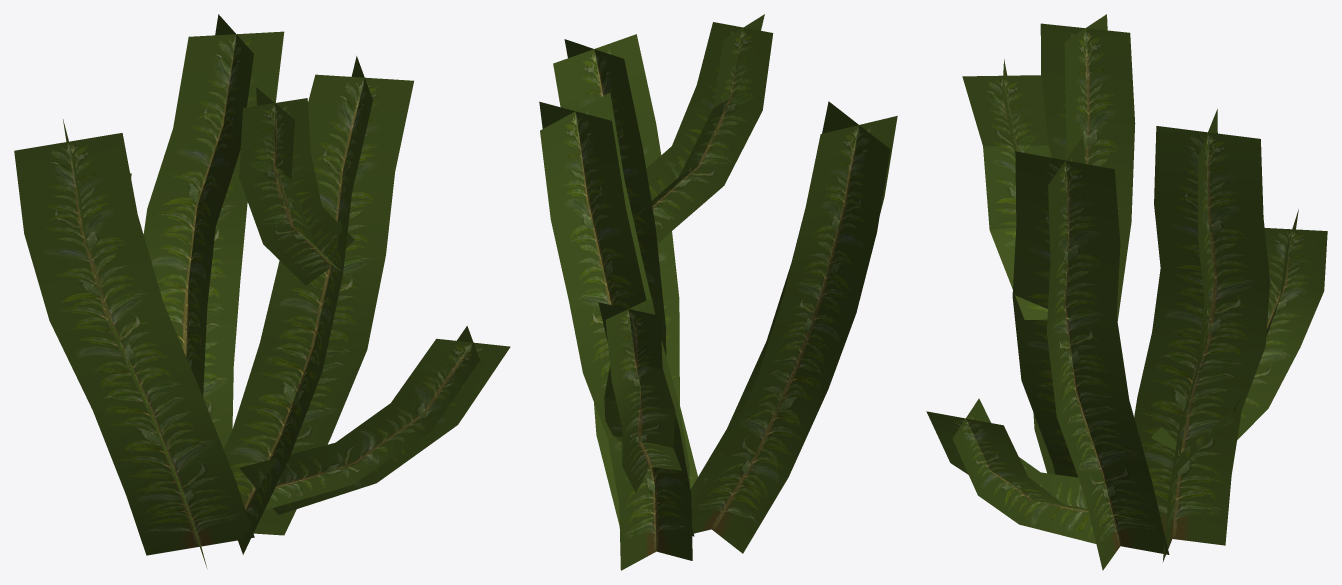
The model's file is Salix viminalis.FBX.
3 renders of one model, left to right at view 1: azimuth 30°, elevation 25°; view 2: azimuth 150°, elevation 25°; view 3: azimuth 270°, elevation 25°, orthographic. The views are drawn at different scales.
Parts seen in each view (by area): view 1: Salix viminalis; view 2: Salix viminalis; view 3: Salix viminalis.
Part boxes in pixels (x1,y1,x2,y2): Salix viminalis: (14,14,510,568); Salix viminalis: (539,14,897,570); Salix viminalis: (926,14,1327,570).
Size of the model in its own units: 78.68 by 88.08 by 68.35.
